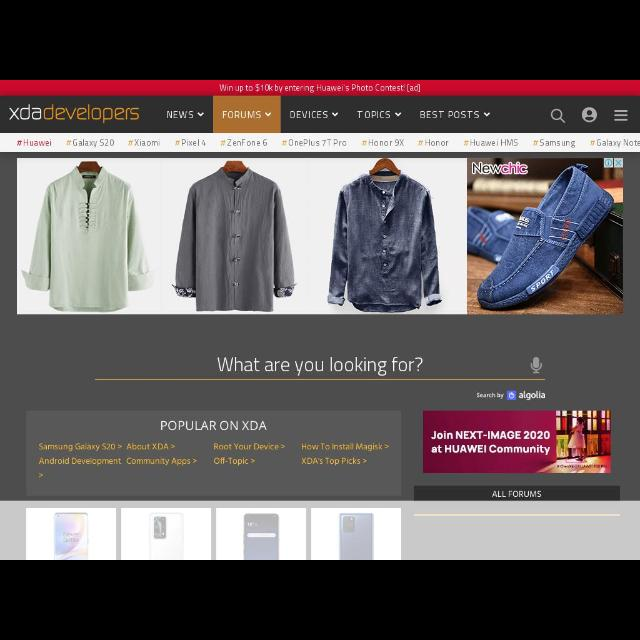icon: (548, 106, 568, 124), (528, 354, 544, 376), (580, 106, 598, 124), (612, 108, 628, 122), (483, 110, 491, 118), (394, 111, 402, 117), (332, 110, 338, 118), (197, 112, 205, 118), (264, 112, 272, 118)
iframe: (18, 158, 624, 314), (1, 501, 639, 559), (1, 80, 639, 96)
image: (424, 411, 610, 473), (7, 105, 143, 124)
link: (301, 442, 389, 452), (38, 458, 122, 467), (39, 442, 122, 451), (125, 458, 199, 467), (214, 442, 286, 450), (302, 456, 366, 464), (126, 442, 176, 452), (213, 455, 254, 465), (39, 473, 43, 479)
multitab: (1, 133, 640, 151)
spinner: (416, 106, 494, 122), (288, 106, 342, 124), (355, 106, 405, 122), (220, 108, 276, 122), (163, 106, 209, 122)
text: (215, 354, 423, 374), (160, 420, 270, 434), (419, 109, 479, 119), (282, 139, 348, 147), (464, 139, 518, 147), (534, 138, 576, 148), (222, 110, 262, 120), (65, 138, 115, 146), (492, 490, 542, 498), (591, 139, 639, 147), (290, 110, 328, 120), (16, 137, 54, 147), (362, 139, 406, 147), (220, 140, 270, 146), (418, 138, 448, 148), (166, 110, 194, 120), (358, 110, 390, 118), (174, 138, 206, 146), (127, 140, 163, 146)
